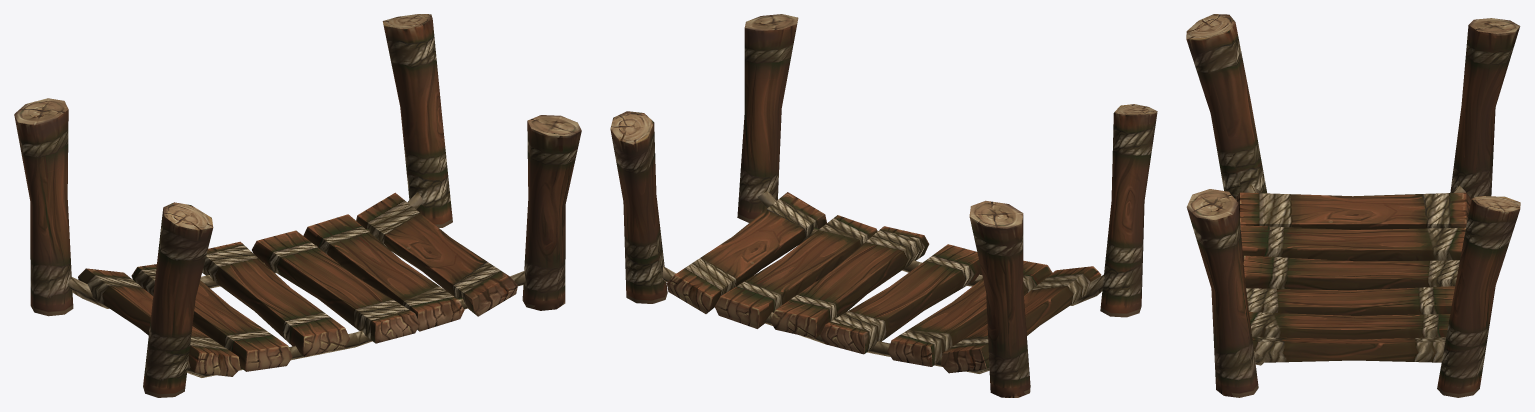
The model's file is rope_bridge_example_00.fbx.
3 views of the same model, side by side, from view 1: azimuth 30°, elevation 25°; view 2: azimuth 150°, elevation 25°; view 3: azimuth 270°, elevation 25° (orthographic).
Visible parts, largest first — view 1: rope_bridge_example_00; view 2: rope_bridge_example_00; view 3: rope_bridge_example_00.
Part boxes in pixels (x1,y1,x2,y2): rope_bridge_example_00: (14, 14, 581, 397); rope_bridge_example_00: (610, 14, 1157, 397); rope_bridge_example_00: (1186, 14, 1520, 397).
Bounding box in the file's own units: 267 × 123 × 187.
